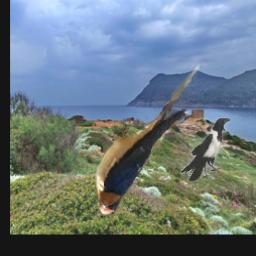Crow: (181, 118, 231, 182)
Swallow: (95, 64, 201, 216)
